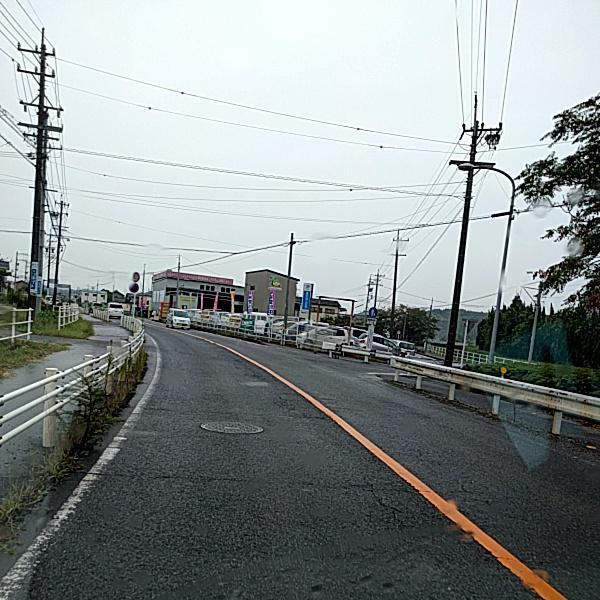D10: (127, 468, 385, 500)
D44: (0, 371, 159, 597)
D50: (200, 419, 263, 437)
